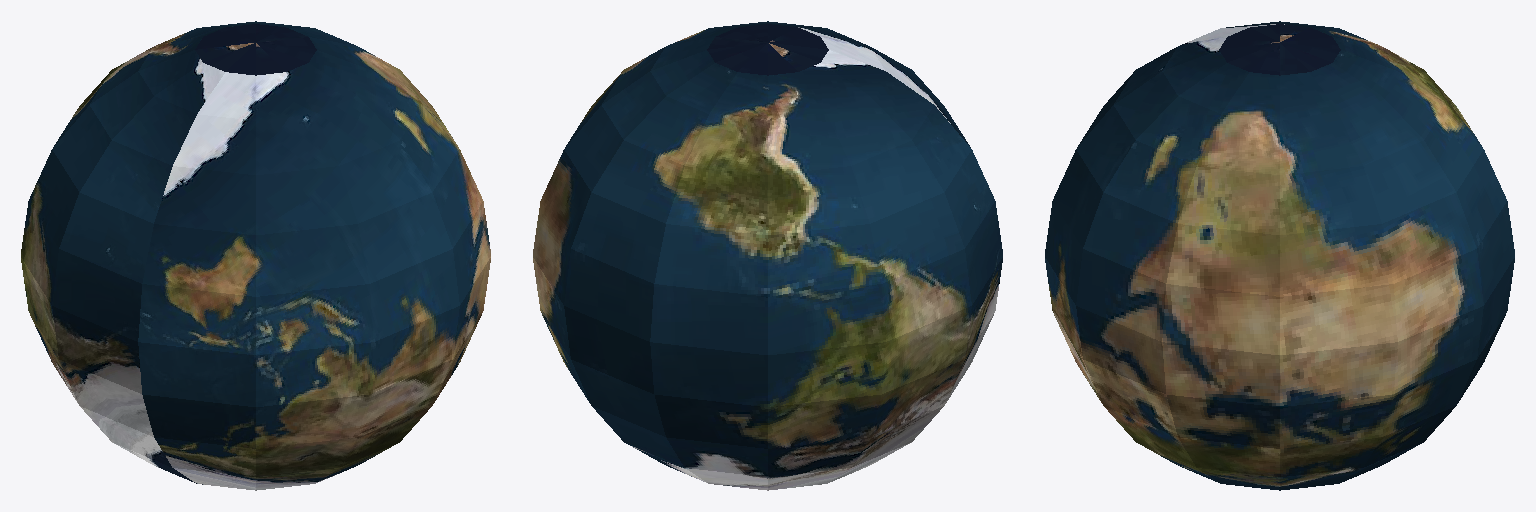
3 renders of one model, left to right at view 1: azimuth 30°, elevation 25°; view 2: azimuth 150°, elevation 25°; view 3: azimuth 270°, elevation 25°, orthographic.
Parts seen in each view (by area): view 1: Sphere_Sphere.001; view 2: Sphere_Sphere.001; view 3: Sphere_Sphere.001.
Part boxes in pixels (left/top/right/bottom): Sphere_Sphere.001: left=21, top=21, right=490, bottom=490; Sphere_Sphere.001: left=533, top=21, right=1002, bottom=490; Sphere_Sphere.001: left=1045, top=21, right=1514, bottom=490.
Bounding box in the file's own units: 2 × 2 × 2.
1 materials, 1 textured.